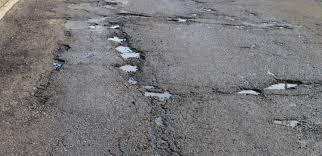pothole: (264, 79, 301, 93), (271, 117, 302, 130), (115, 44, 141, 59), (104, 31, 129, 43), (145, 89, 175, 99), (235, 87, 261, 98), (116, 61, 139, 72), (50, 57, 69, 69), (151, 115, 168, 128), (118, 12, 152, 18), (172, 16, 190, 23), (126, 77, 141, 85), (202, 6, 218, 13), (107, 23, 121, 29), (190, 13, 198, 17)
